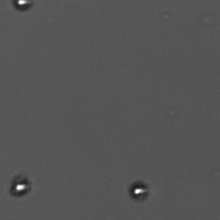Living Cell: (9, 171, 35, 200), (122, 178, 152, 203), (11, 1, 35, 13)
